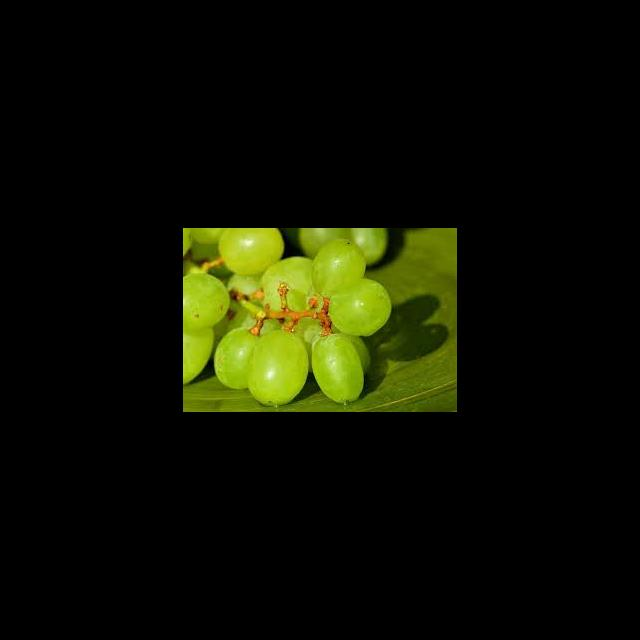grape: (221, 234, 388, 407)
